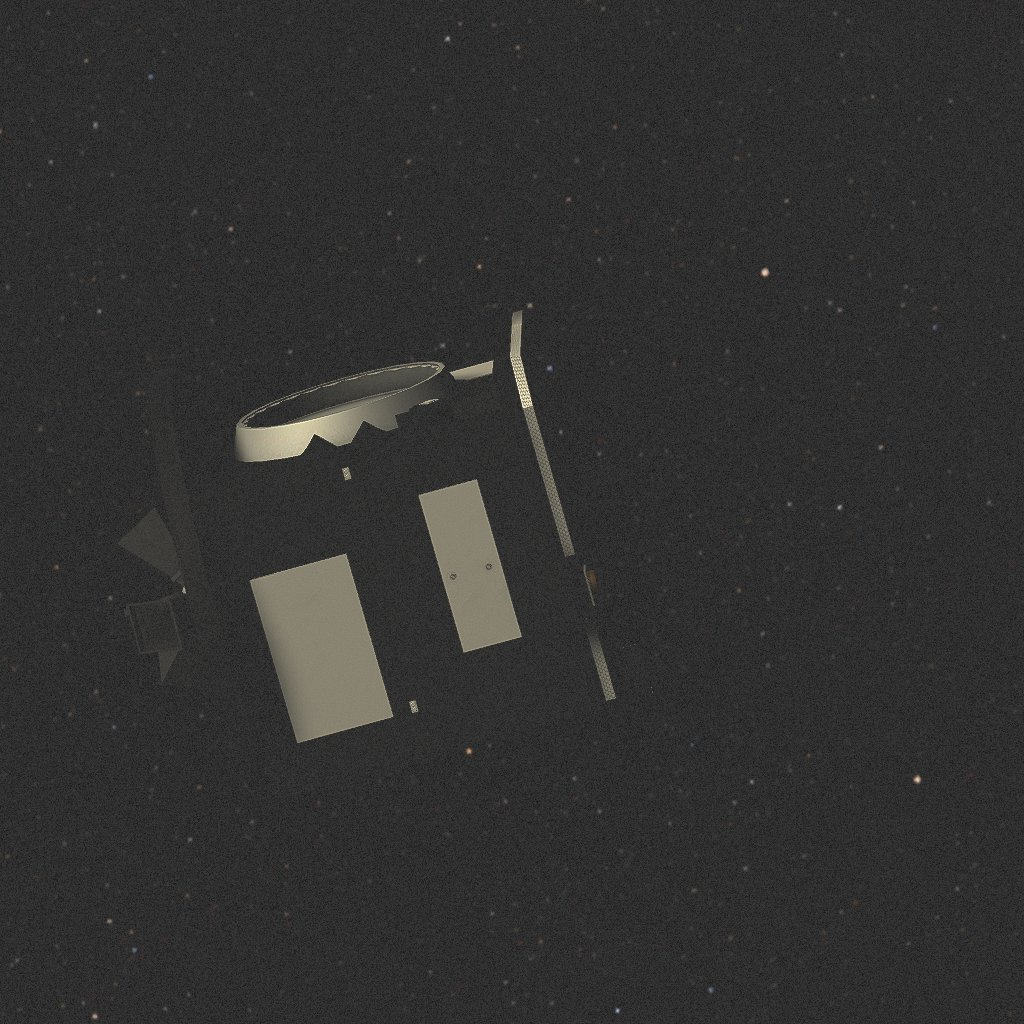proba_3_ocs: (80, 333, 612, 768)
